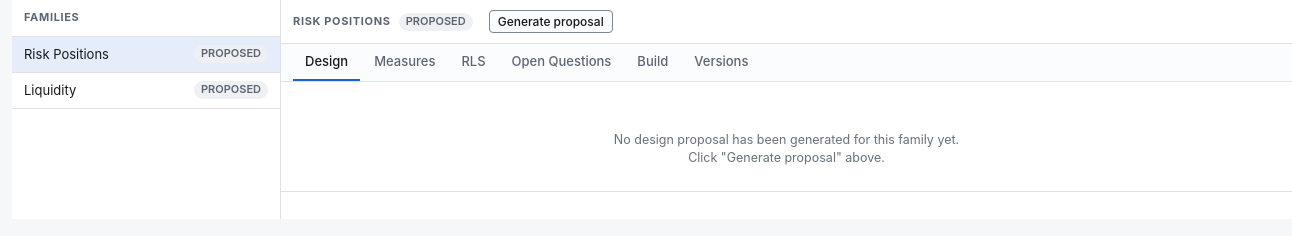
Scenario: the family list › switches the detail panel when another family is picked
The image size is (1292, 236).
Click the text "Liquidity" at (50, 90), box [24,81,76,100]
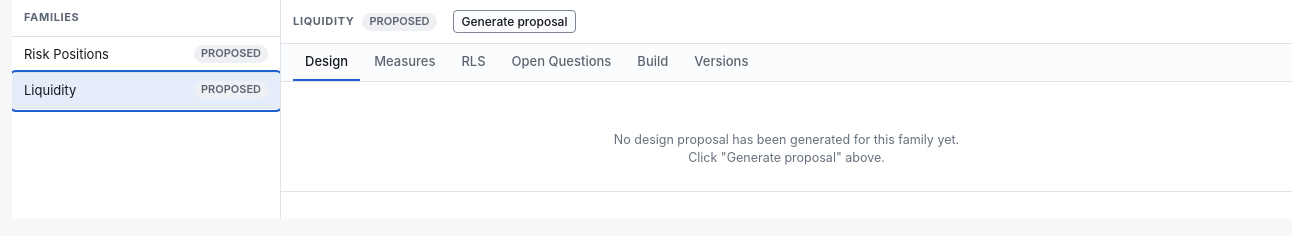
Expected: the element named "Model Detail — Liquidity" is shown
